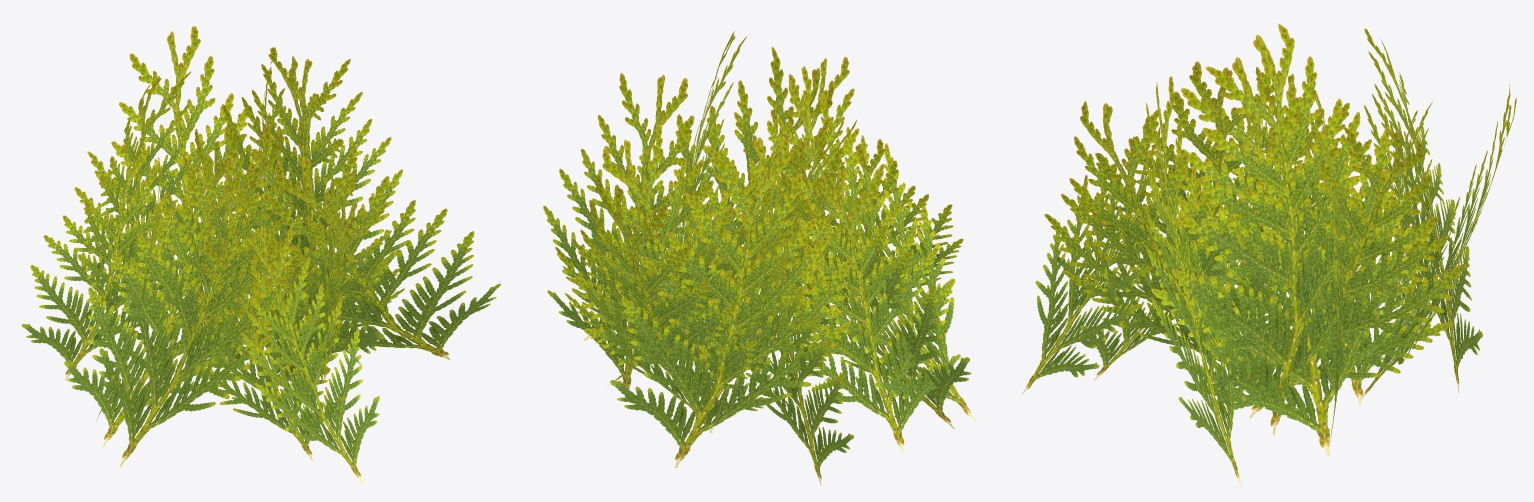
File: bush_01.glb
3 renders of one model, left to right at view 1: azimuth 30°, elevation 25°; view 2: azimuth 150°, elevation 25°; view 3: azimuth 270°, elevation 25°, orthographic. The views are drawn at different scales.
Visible parts, largest first — view 1: env; view 2: env; view 3: env.
Boxes of the visible parts, left/top/right/bottom form: env: left=21, top=26, right=500, bottom=483; env: left=543, top=31, right=975, bottom=485; env: left=1022, top=23, right=1516, bottom=487.
Size of the model in its own units: 1.09 by 0.9 by 1.03.
1 material, 1 textured.
